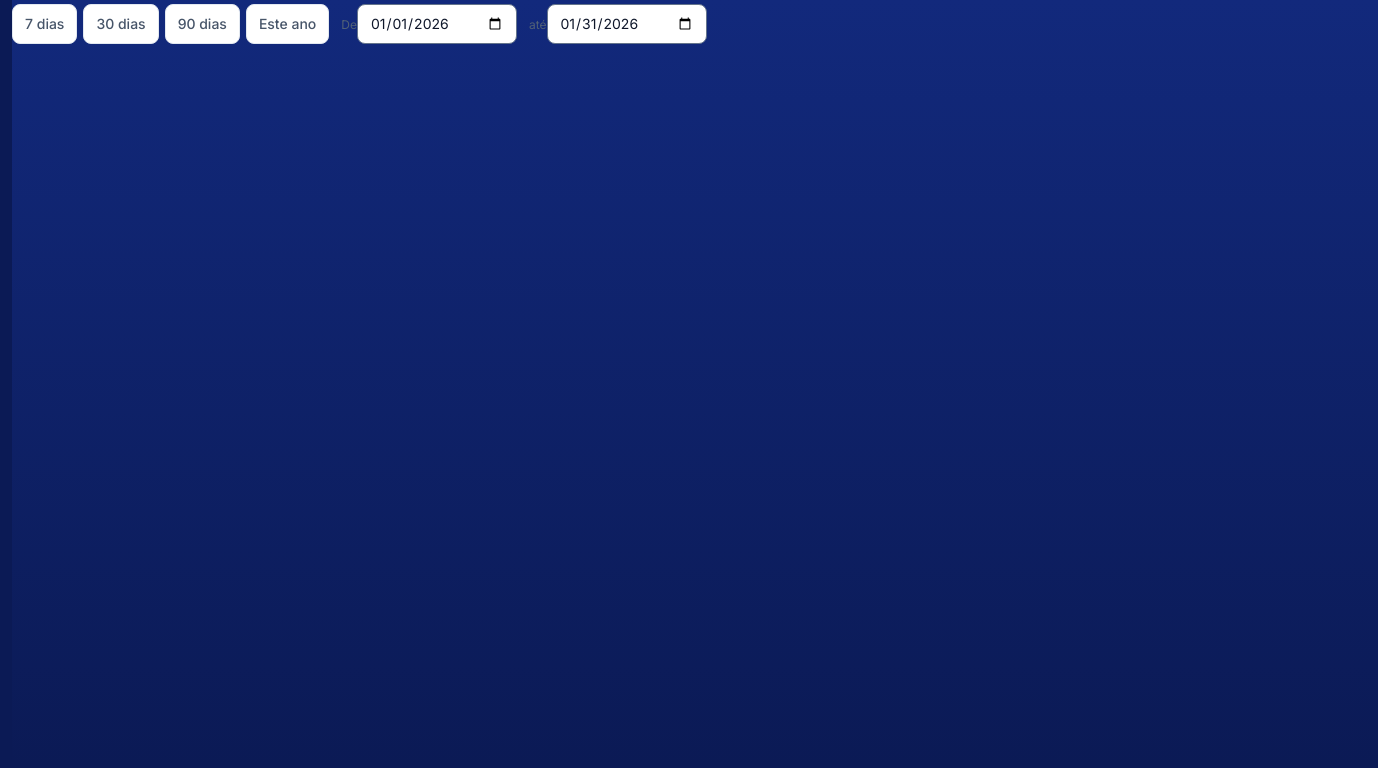
Scenario: FiltroPeriodo › data inicial depois da final: avisa e NÃO informa o período
The width and height of the screenshot is (1378, 768).
Type "2026-02-15" into the date field named "Data inicial" at [437, 24], box [357,4,517,44]
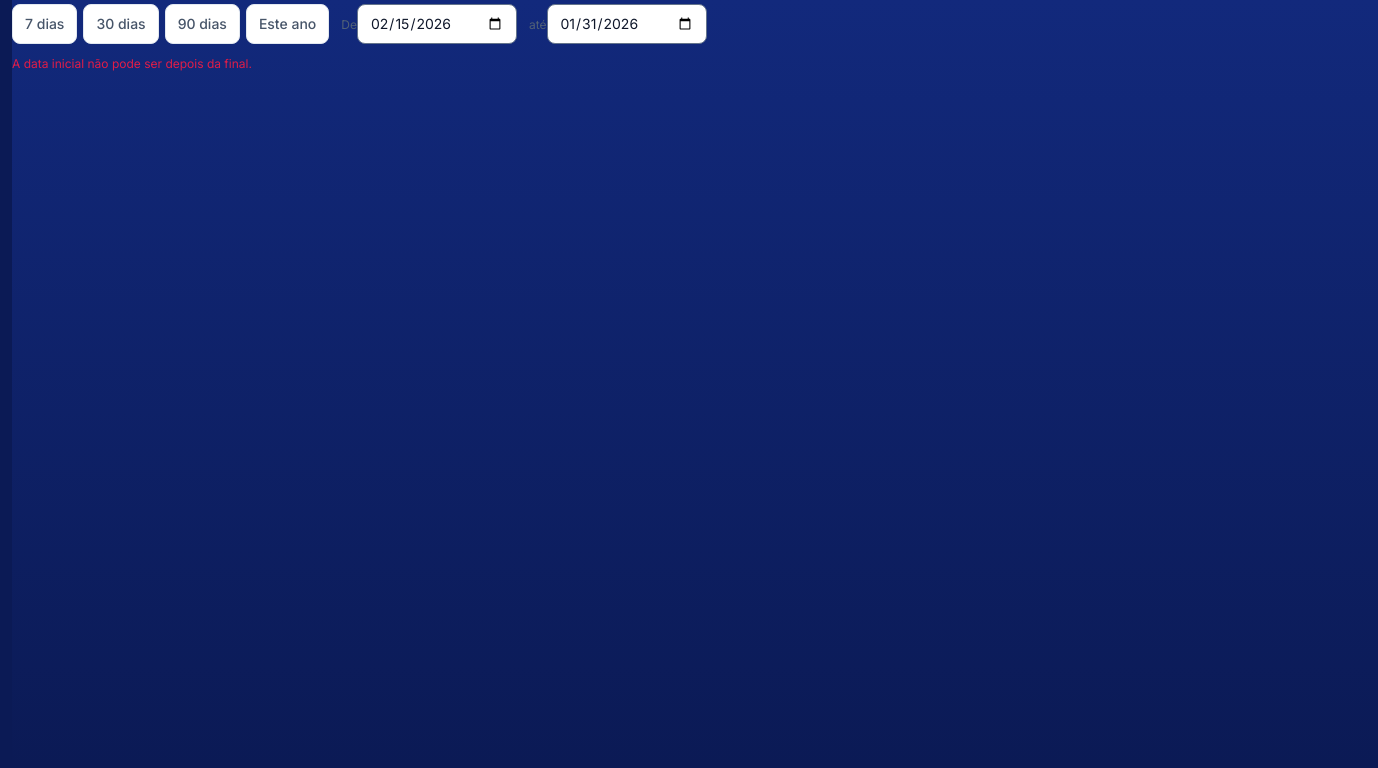
Check: the message reads "A data inicial não pode ser depois da final.", box [12,56,252,71]
